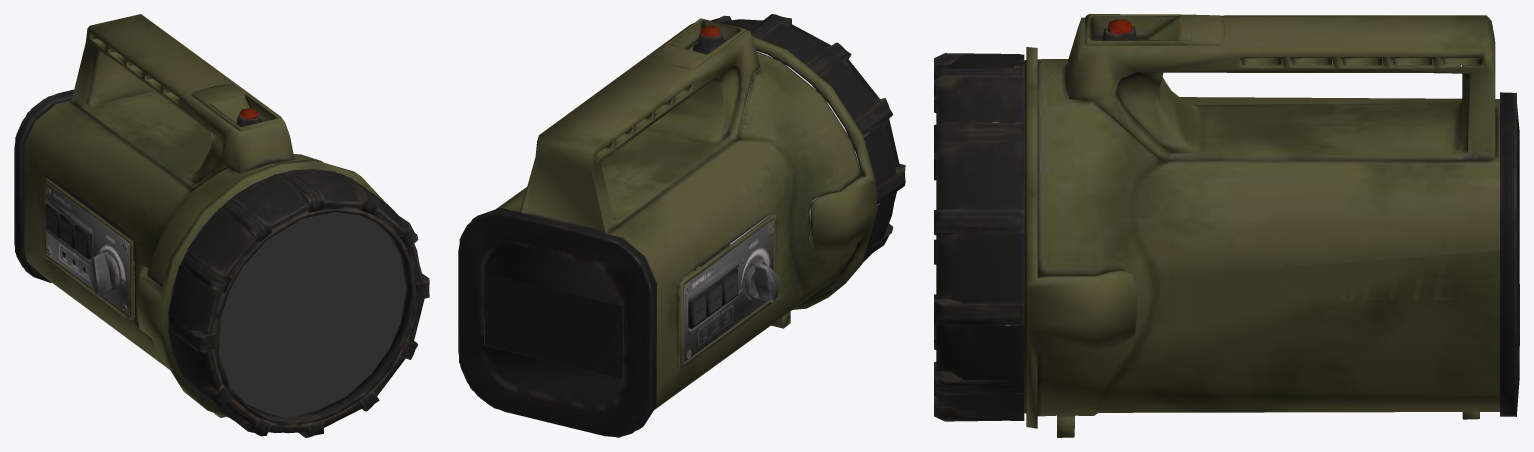
Rendered from followspot.glb.
3 views of the same model, side by side, from view 1: azimuth 30°, elevation 25°; view 2: azimuth 150°, elevation 25°; view 3: azimuth 270°, elevation 25° (orthographic). The views are drawn at different scales.
Visible parts, largest first — view 1: portable_searchlight; view 2: portable_searchlight; view 3: portable_searchlight.
Part boxes in pixels (x1,y1,x2,y2): portable_searchlight: (14, 14, 429, 437); portable_searchlight: (458, 14, 905, 437); portable_searchlight: (934, 14, 1519, 437).
Size of the model in its own units: 0.1651 by 0.1854 by 0.2535.
Materials: 2 (2 with a texture image).
